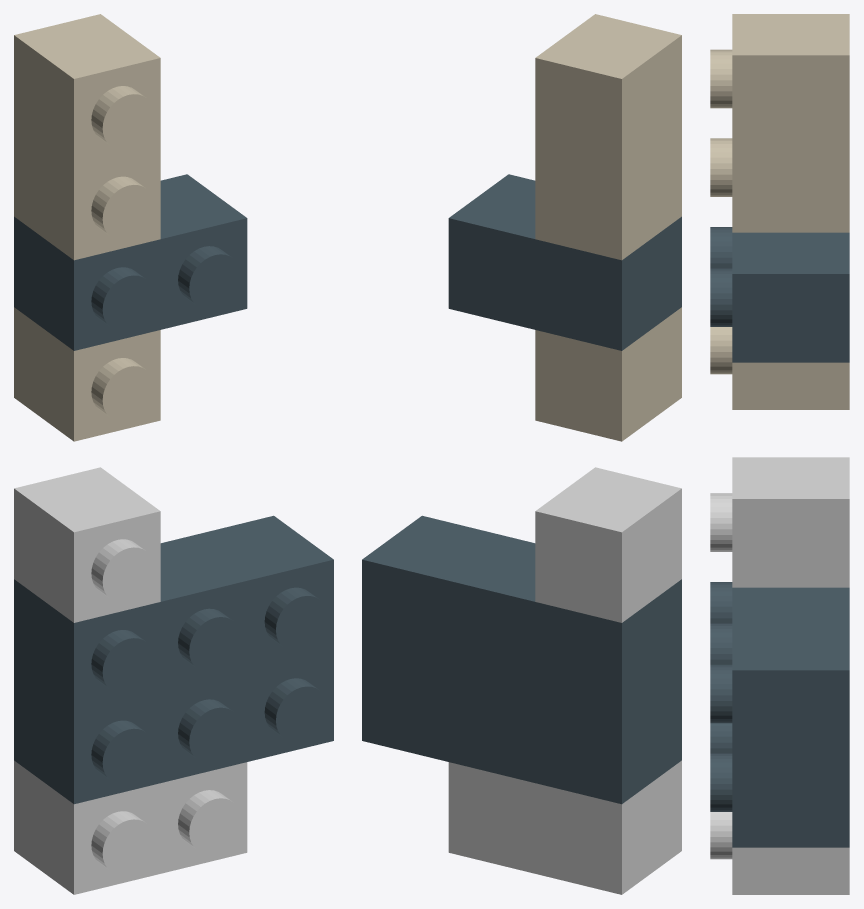
The model's file is current.glb.
3 views of the same model, side by side, from view 1: azimuth 30°, elevation 25°; view 2: azimuth 150°, elevation 25°; view 3: azimuth 270°, elevation 25° (orthographic). The views are drawn at different scales.
Visible parts, largest first — view 1: world; view 2: world; view 3: world.
Boxes of the visible parts, <box> form: world: <box>14,14,333,894</box>; world: <box>362,14,681,894</box>; world: <box>710,14,849,894</box>.
Size of the model in its own units: 24 by 72 by 11.4.
